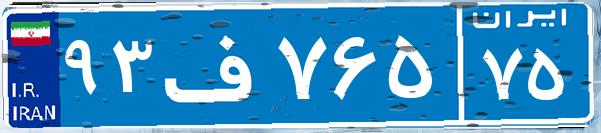3: (110, 28, 158, 105)
5: (385, 28, 445, 110), (525, 38, 570, 115)
6: (330, 28, 385, 110)
7: (273, 28, 330, 110), (475, 38, 525, 113)
9: (57, 26, 110, 107)
ف: (158, 15, 273, 115)
